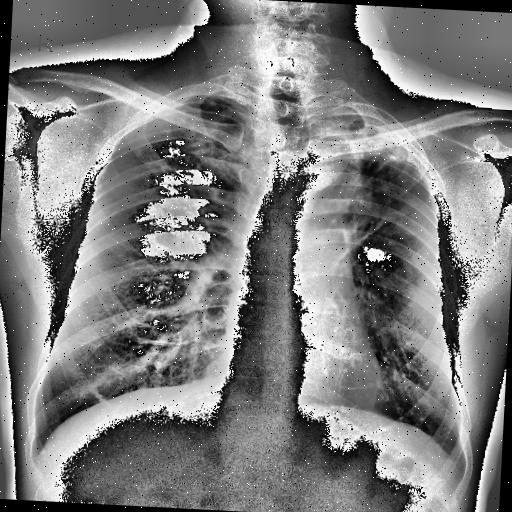1- Atelectasis: (310, 100, 402, 136)
11- Pleural thickening: (304, 98, 400, 134), (312, 112, 392, 129), (158, 92, 192, 115), (209, 95, 246, 110)
13- Pulmonary fibrosis: (312, 122, 432, 275), (318, 116, 440, 250), (311, 122, 413, 255), (156, 110, 248, 199), (132, 94, 232, 172)
7- Lung Opacity: (312, 122, 432, 275)
8- Nodule-Mass: (314, 283, 466, 439), (152, 360, 163, 370)
